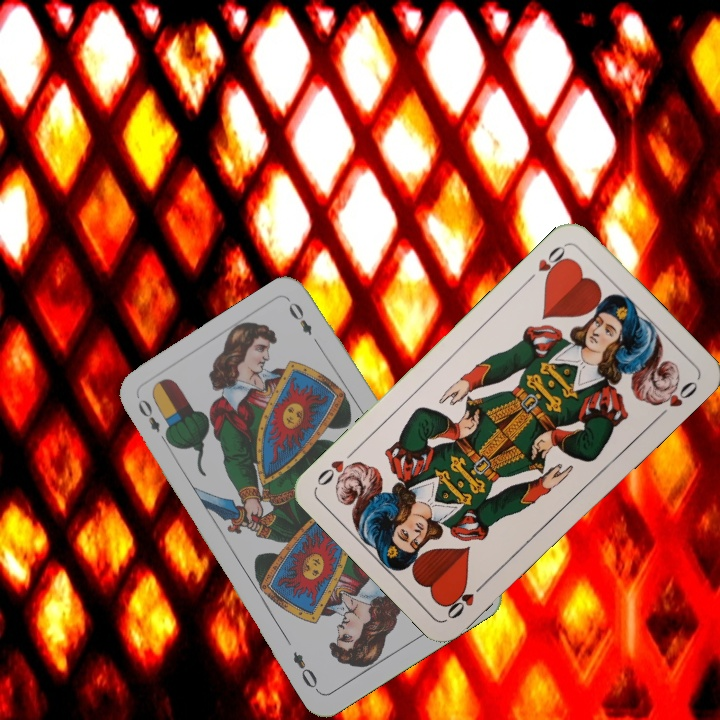EO: (133, 395, 172, 448)
HO: (522, 240, 571, 286), (442, 576, 490, 622)
